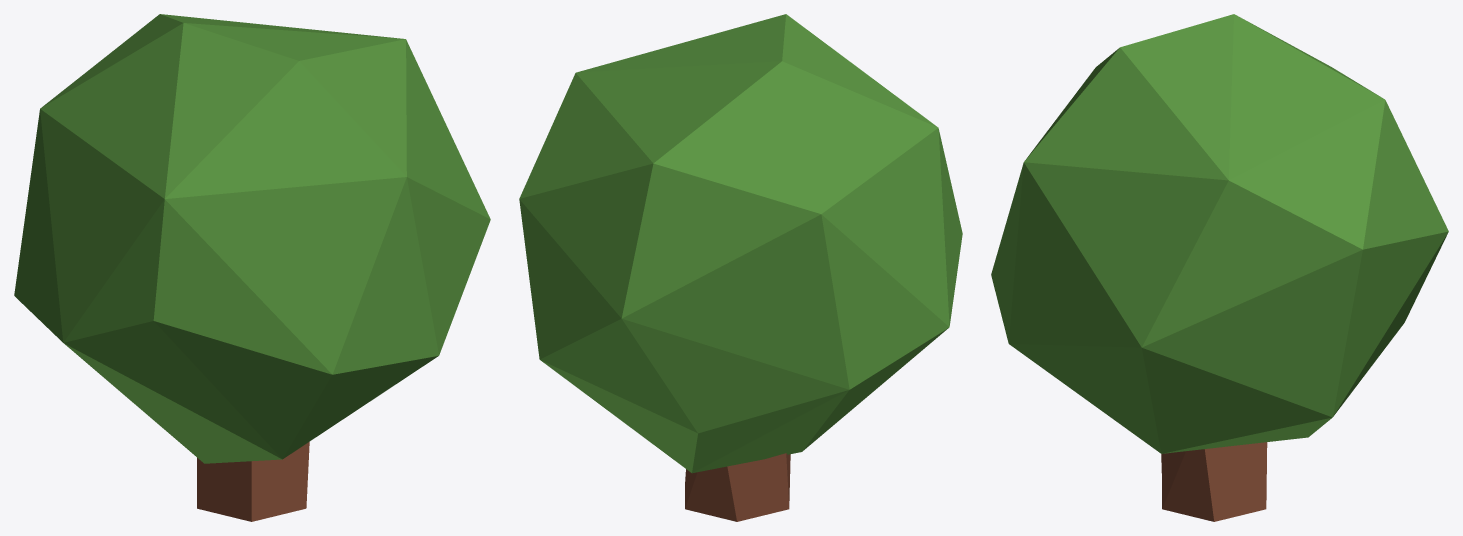
Rendered from bush_3_summer_mat.fbx.
3 renders of one model, left to right at view 1: azimuth 30°, elevation 25°; view 2: azimuth 150°, elevation 25°; view 3: azimuth 270°, elevation 25°, orthographic. The views are drawn at different scales.
Visible parts, largest first — view 1: bush_3_summer_mat; view 2: bush_3_summer_mat; view 3: bush_3_summer_mat.
Boxes of the visible parts, x1,y1,x2,y2 form: bush_3_summer_mat: (14,14,490,521); bush_3_summer_mat: (519,14,962,521); bush_3_summer_mat: (991,14,1448,521).
Bounding box in the file's own units: 1.4 × 1.57 × 1.43.
